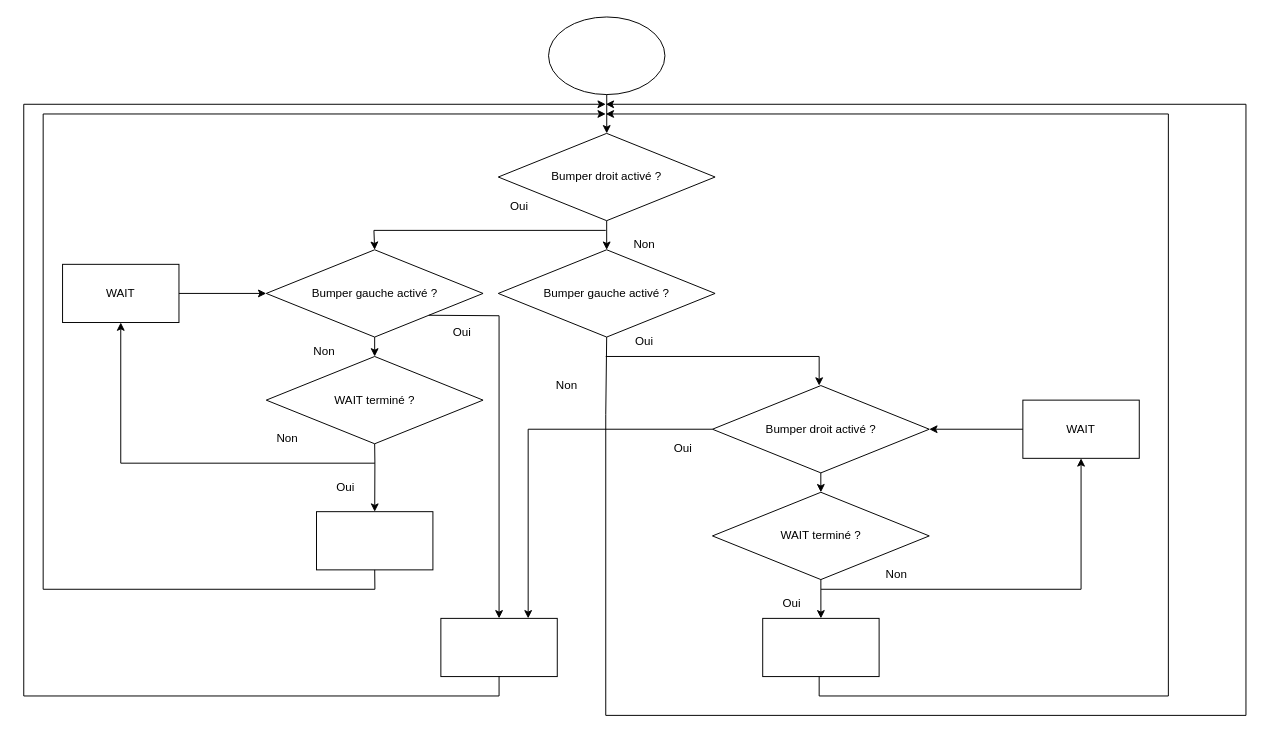
The diagram is 1271 pixels wide and 740 high, and some of its shapes have lost their labels. The centre of each missing label's shape, as x and y in pixels:
"Début" goes at (x=606, y=55).
"Faire demi-tour" goes at (x=498, y=647).
"Tourner à droite" goes at (x=820, y=647).
"Tourner à gauche" goes at (x=374, y=540).
